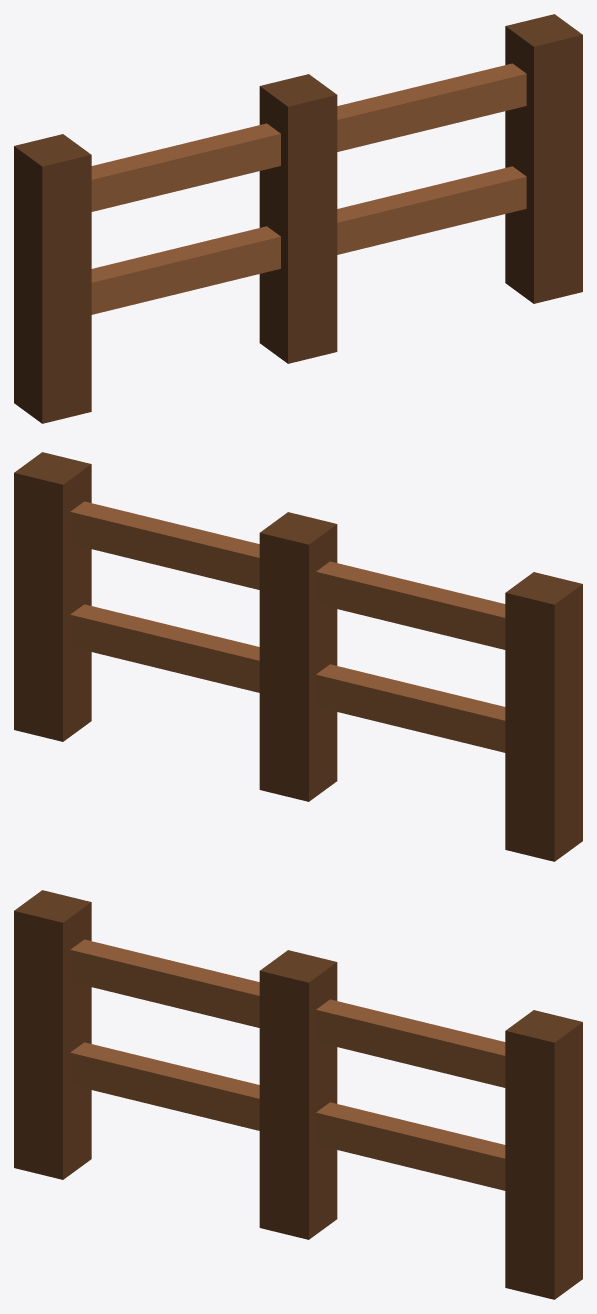
The model's file is Fence.glb.
The picture shows the model from 3 angles, top to bottom: view 1: azimuth 30°, elevation 25°; view 2: azimuth 150°, elevation 25°; view 3: azimuth 330°, elevation 25°; orthographic projection.
Parts seen in each view (by area): view 1: Fence; view 2: Fence; view 3: Fence.
Boxes of the visible parts, x1,y1,x2,y2 form: Fence: [14, 14, 582, 423]; Fence: [14, 452, 582, 861]; Fence: [14, 890, 582, 1299].
Size of the model in its own units: 8.8 by 4 by 0.8.
Materials: 1 (1 with a texture image).
